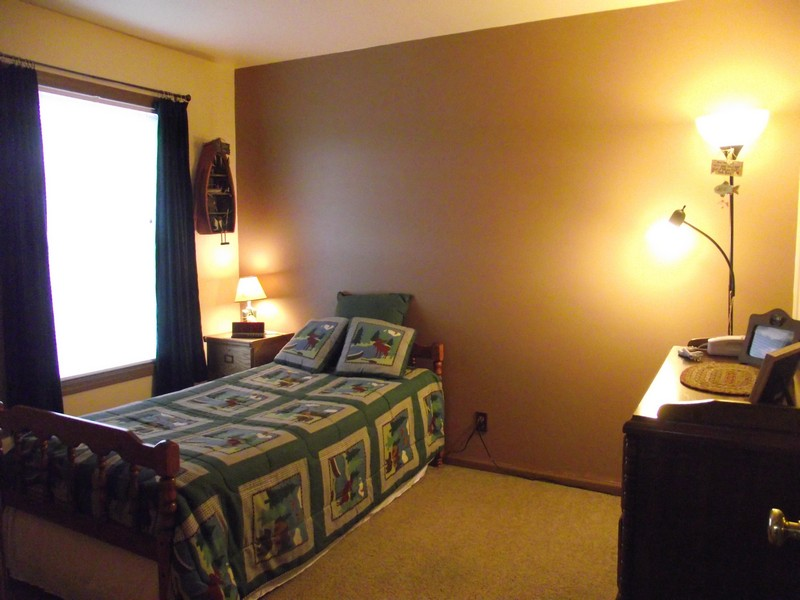bed: (32, 306, 453, 583)
lamp: (655, 96, 765, 335), (234, 271, 271, 324)
table: (627, 339, 797, 594)
